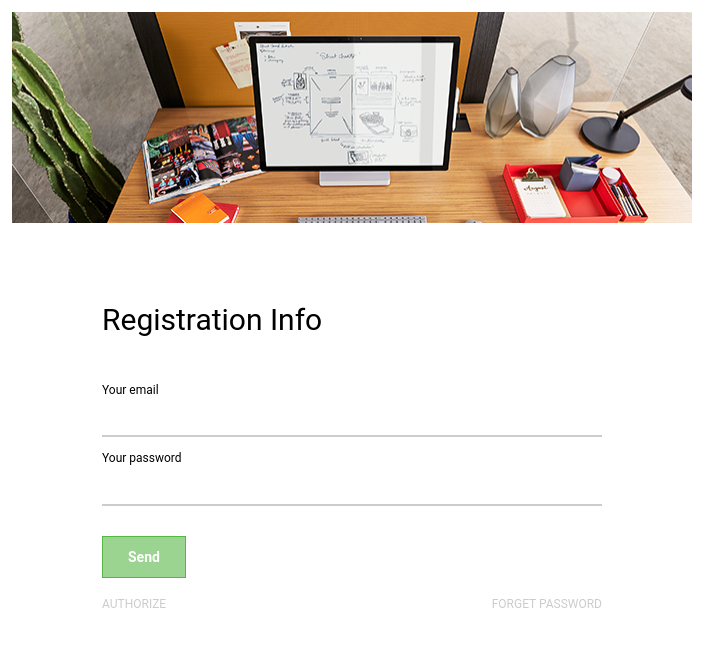
RegisterForm › input email › not validate
The image size is (709, 649).
Type "loki99928yandex" into the field with test id "input_email" at (352, 418), box [102,399,602,438]
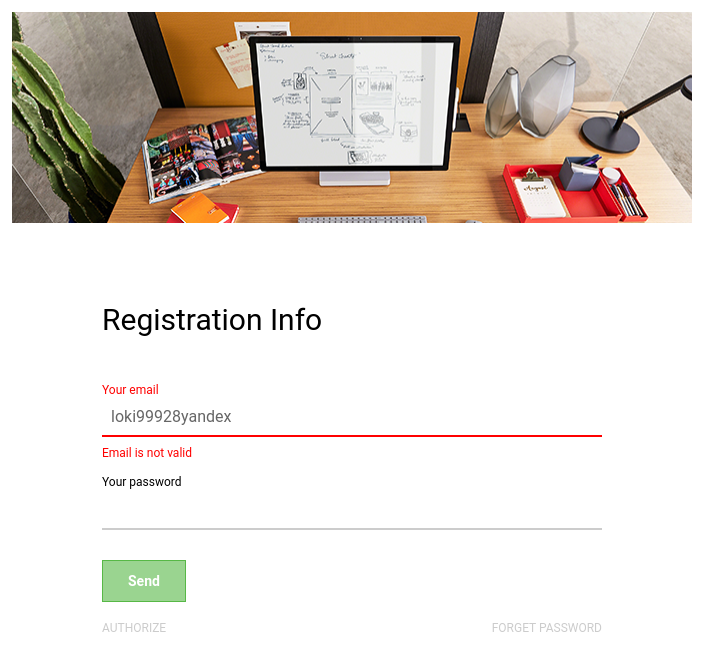
expect the element with test id "test_email" reads "Email is not valid": met, box [102,446,192,460]
